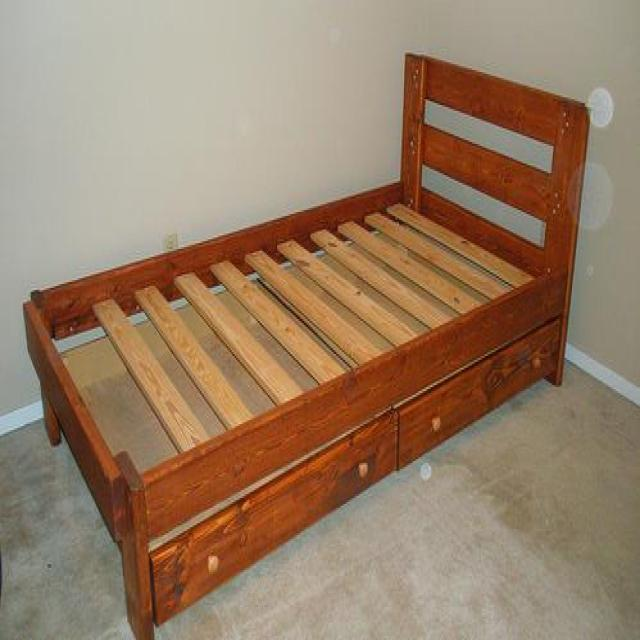bed: (27, 53, 589, 640)
